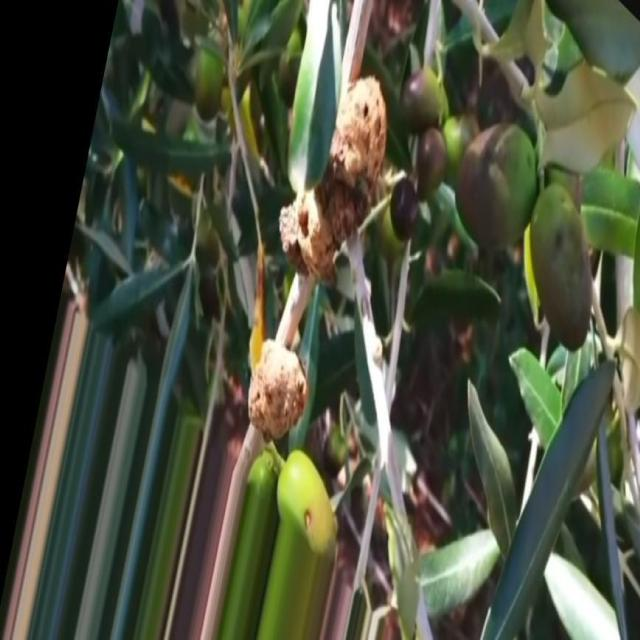Tuberculosis: (279, 77, 387, 280), (248, 339, 316, 439)
